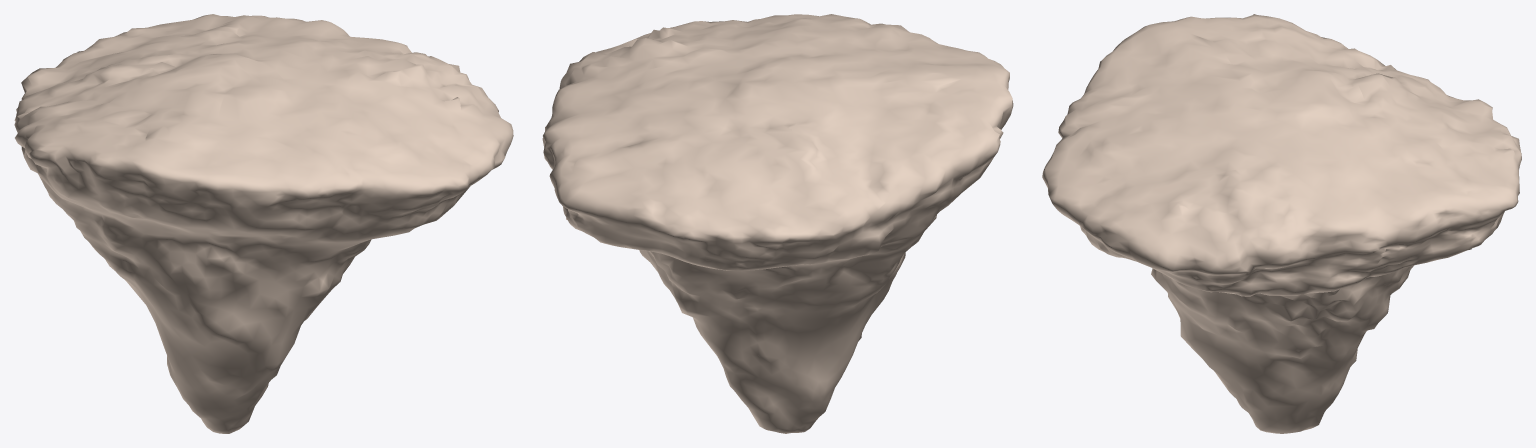
Rendered from ErsteInselGuteUVs.fbx.
The picture shows the model from 3 angles, left to right: view 1: azimuth 30°, elevation 25°; view 2: azimuth 150°, elevation 25°; view 3: azimuth 270°, elevation 25°; orthographic projection. The views are drawn at different scales.
Visible parts, largest first — view 1: sphere1_Copy; view 2: sphere1_Copy; view 3: sphere1_Copy.
Part boxes in pixels (x1,y1,x2,y2): sphere1_Copy: (14, 14, 513, 433); sphere1_Copy: (542, 14, 1013, 433); sphere1_Copy: (1042, 14, 1521, 433).
Bounding box in the file's own units: 386 × 297 × 376.
